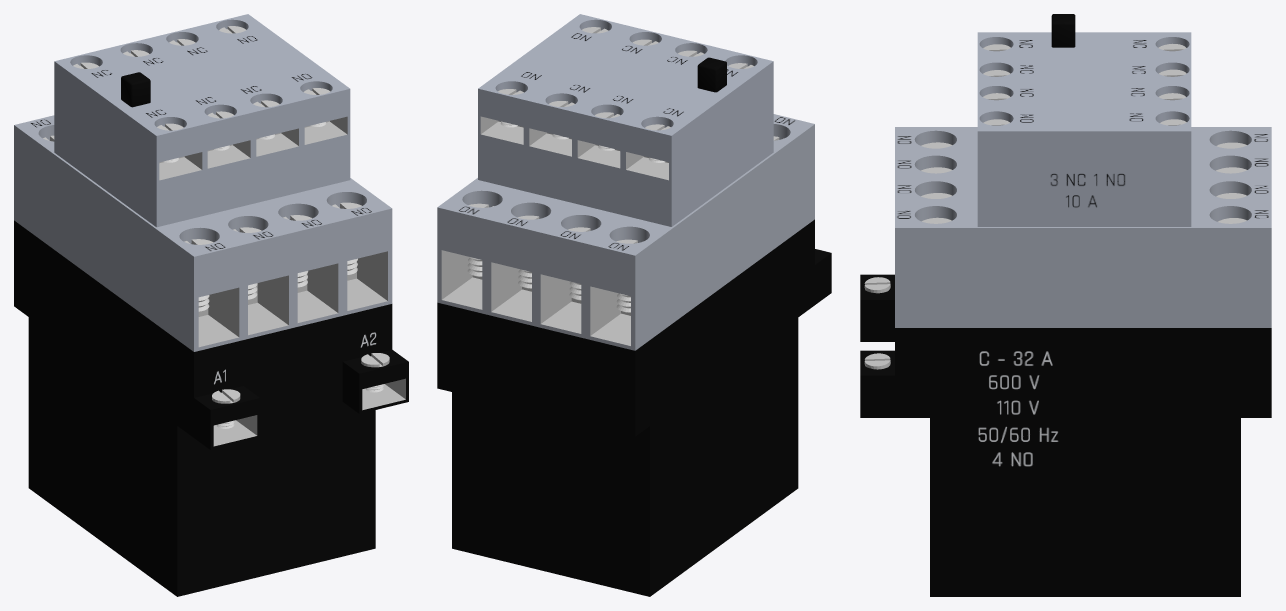
Rendered from Contactor3.fbx.
The picture shows the model from 3 angles, left to right: view 1: azimuth 30°, elevation 25°; view 2: azimuth 150°, elevation 25°; view 3: azimuth 270°, elevation 25°; orthographic projection. The views are drawn at different scales.
Parts seen in each view (by area): view 1: Contactor.093; view 2: Contactor.093; view 3: Contactor.093.
Boxes of the visible parts, box(x1,y1,x2,y2) form: Contactor.093: box(14, 14, 408, 596); Contactor.093: box(437, 14, 831, 596); Contactor.093: box(860, 14, 1271, 596).
Size of the model in its own units: 8.89 by 20.01 by 15.27.
